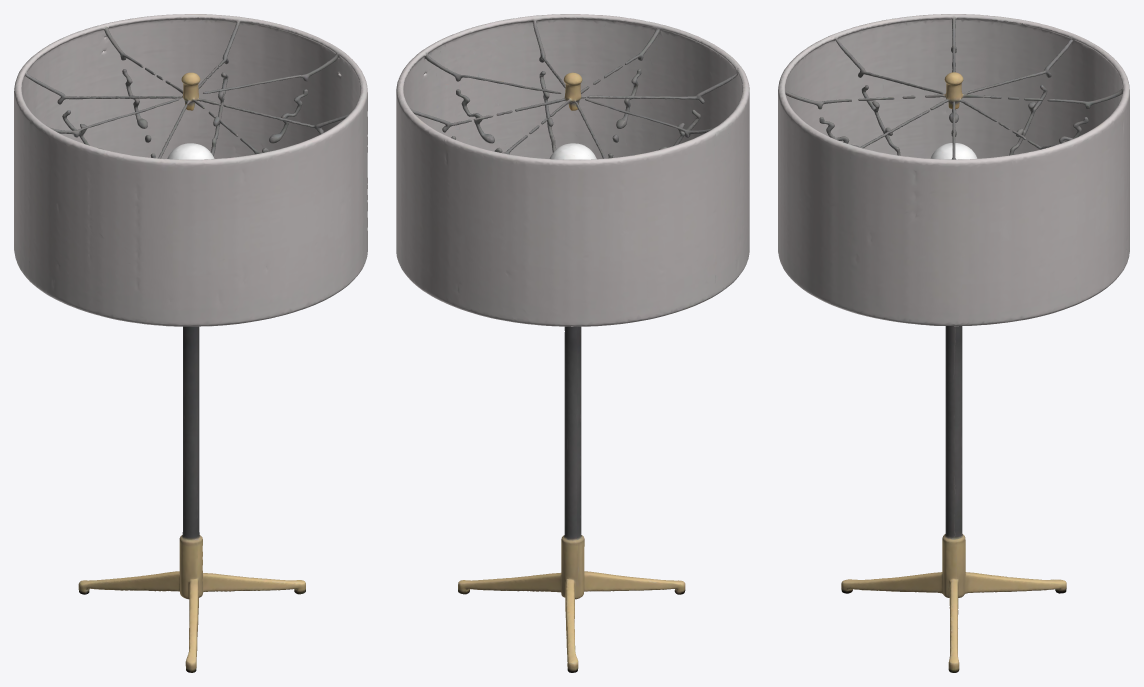
The model's file is Lamp [NpYY8Q].glb.
3 views of the same model, side by side, from view 1: azimuth 30°, elevation 25°; view 2: azimuth 150°, elevation 25°; view 3: azimuth 270°, elevation 25° (orthographic).
Parts seen in each view (by area): view 1: world; view 2: world; view 3: world.
Part boxes in pixels (x1,y1,x2,y2): world: (14,14,367,672); world: (396,14,749,672); world: (778,14,1129,672).
Bounding box in the file's own units: 0.5895 × 1 × 0.5882.
Materials: 1 (1 with a texture image).
